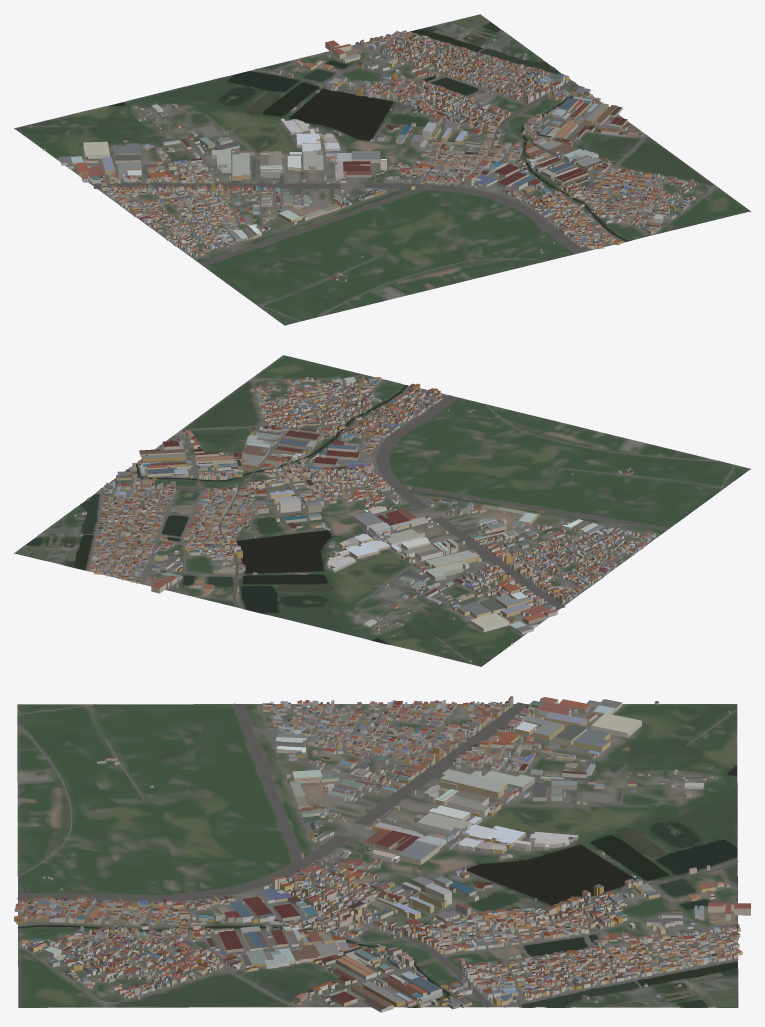
3 views of the same model, one above another, from view 1: azimuth 30°, elevation 25°; view 2: azimuth 150°, elevation 25°; view 3: azimuth 270°, elevation 25° (orthographic). The views are drawn at different scales.
Parts seen in each view (by area): view 1: ground, buildings, roads, water; view 2: ground, buildings, roads, water; view 3: ground, buildings, roads, water.
Boxes of the visible parts, x1,y1,x2,y2 form: ground: [14, 14, 750, 325]; buildings: [29, 30, 695, 281]; roads: [22, 18, 719, 321]; water: [108, 14, 628, 241]; ground: [14, 355, 750, 666]; buildings: [59, 376, 655, 661]; roads: [21, 378, 734, 664]; water: [15, 385, 407, 643]; ground: [17, 704, 738, 1007]; buildings: [14, 696, 750, 1012]; roads: [17, 702, 738, 1007]; water: [18, 765, 737, 1007].
Size of the model in its own units: 1435 by 31.86 by 1435.
